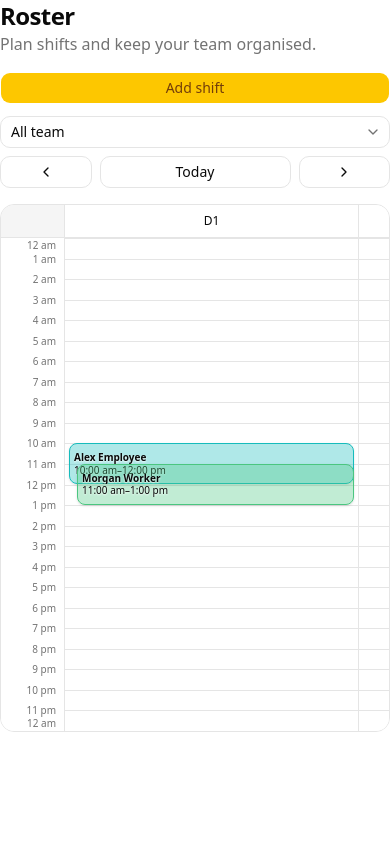
Scenario: RosterCalendar › opens a one-hour default when mobile empty time is tapped
This screenshot has width=390, height=844.
Click the element named "Day 1 team shift canvas".
click(212, 474)  # box [69,443,354,505]
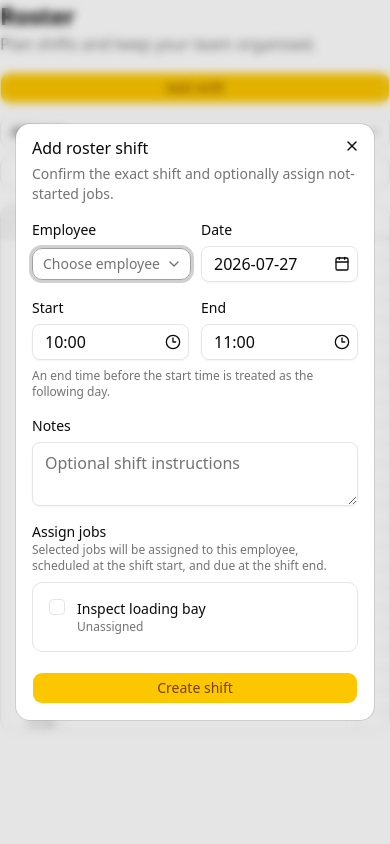
Check: the field labelled "Start" holds "10:00", box [32,324,189,360]
Check: the field labelled "End" holds "11:00", box [201,324,358,360]
Check: the dropdown labelled "employee" shows "Choose employee", box [32,248,191,280]
